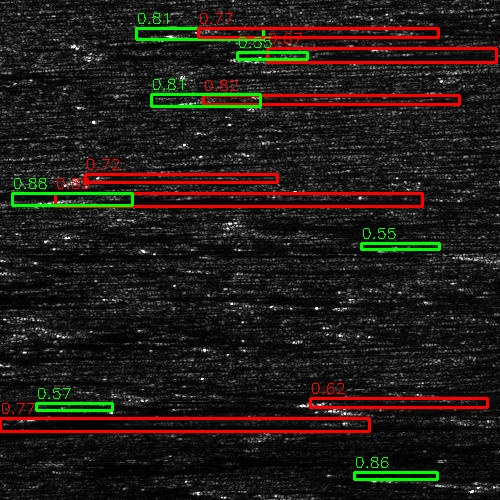rock: (208, 489, 375, 500), (261, 396, 366, 407), (456, 483, 500, 492)
shadow: (0, 412, 372, 427), (0, 428, 362, 439), (292, 489, 500, 500), (0, 407, 247, 416), (0, 368, 72, 393), (314, 396, 460, 407)
